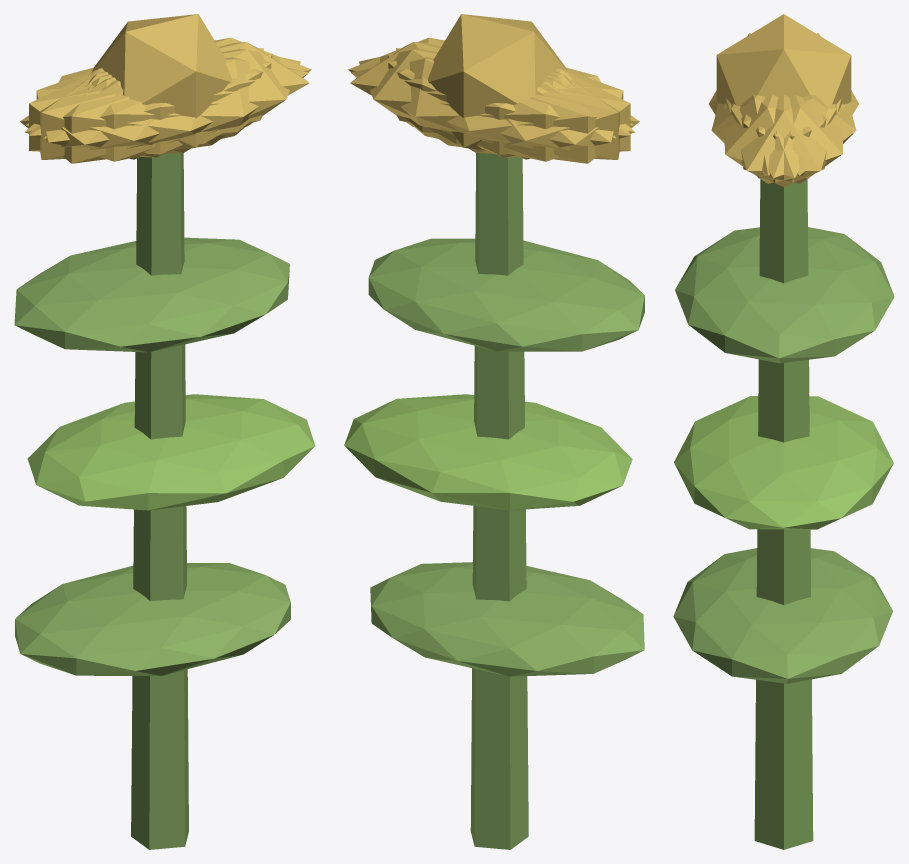
The model's file is tabebuia-rosea.glb.
3 views of the same model, side by side, from view 1: azimuth 30°, elevation 25°; view 2: azimuth 150°, elevation 25°; view 3: azimuth 270°, elevation 25° (orthographic).
Parts seen in each view (by area): view 1: stem, leaf1, leaf2, leaf0, center, petal1, petal6, petal2, petal5, petal7, petal0, petal4 (+2 smaller); view 2: stem, leaf1, leaf2, leaf0, center, petal8, petal3, petal7, petal4, petal2, petal0, petal5 (+2 smaller); view 3: stem, leaf1, leaf2, leaf0, center, petal0, petal5, petal4, petal8, petal1.
Part boxes in pixels (<box>): stem: <box>131,153,188,849</box>; leaf1: <box>27,394,315,510</box>; leaf2: <box>14,237,289,352</box>; leaf0: <box>15,563,290,675</box>; center: <box>92,14,231,149</box>; petal1: <box>24,57,308,161</box>; petal6: <box>20,70,225,163</box>; petal2: <box>40,48,263,159</box>; petal5: <box>43,49,300,154</box>; petal7: <box>29,54,272,157</box>; petal0: <box>91,42,309,144</box>; petal4: <box>26,37,311,135</box>; stem: <box>470,153,528,849</box>; leaf1: <box>344,394,632,510</box>; leaf2: <box>368,238,644,351</box>; leaf0: <box>370,562,644,676</box>; center: <box>427,14,567,150</box>; petal8: <box>351,57,635,161</box>; petal3: <box>434,70,639,163</box>; petal7: <box>396,48,619,159</box>; petal4: <box>359,49,615,154</box>; petal2: <box>387,54,630,157</box>; petal0: <box>350,42,568,144</box>; petal5: <box>348,37,633,135</box>; stem: <box>754,179,813,849</box>; leaf1: <box>674,396,893,529</box>; leaf2: <box>675,227,894,363</box>; leaf0: <box>673,548,892,683</box>; center: <box>716,14,851,105</box>; petal0: <box>726,95,841,186</box>; petal5: <box>724,95,836,183</box>; petal4: <box>731,95,843,183</box>; petal8: <box>741,95,856,175</box>; petal1: <box>711,95,826,175</box>.
Bounding box in the file's own units: 0.1497 × 0.4038 × 0.1005.
